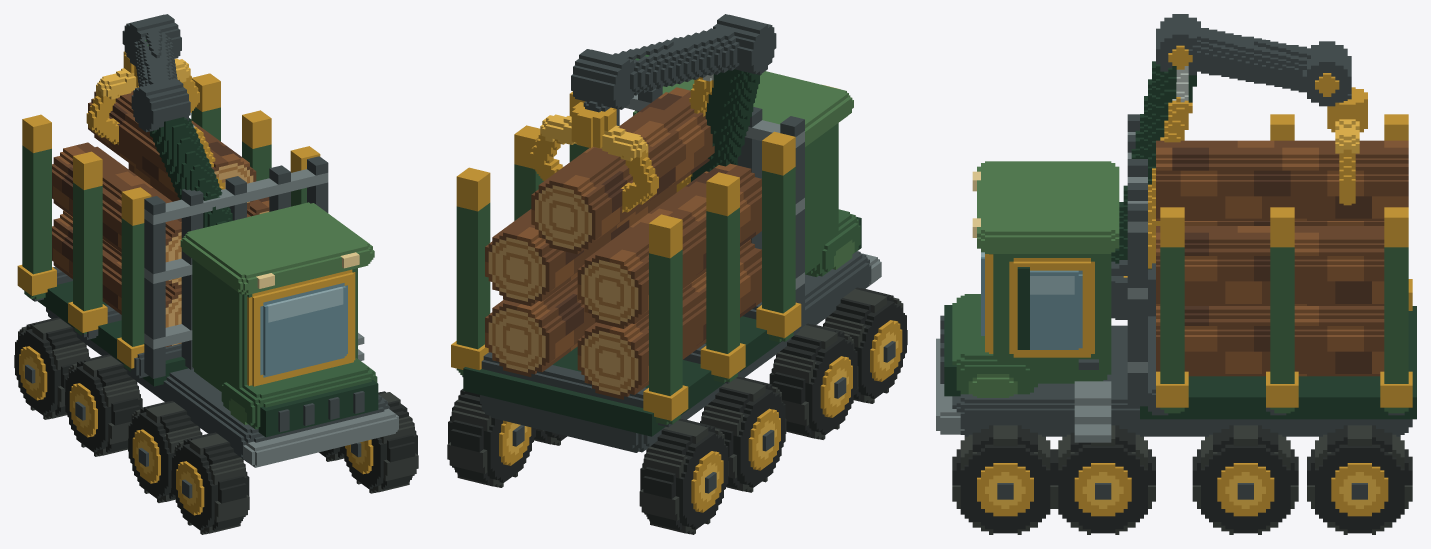
File: timber_forwarder.glb
3 renders of one model, left to right at view 1: azimuth 30°, elevation 25°; view 2: azimuth 150°, elevation 25°; view 3: azimuth 270°, elevation 25°, orthographic. The views are drawn at different scales.
Parts seen in each view (by area): view 1: timber_forwarder; view 2: timber_forwarder; view 3: timber_forwarder.
Boxes of the visible parts, x1,y1,x2,y2 form: timber_forwarder: (14,14,418,534); timber_forwarder: (447,14,907,534); timber_forwarder: (936,14,1416,534).
Size of the model in its own units: 3.5 by 5.8 by 5.9.
